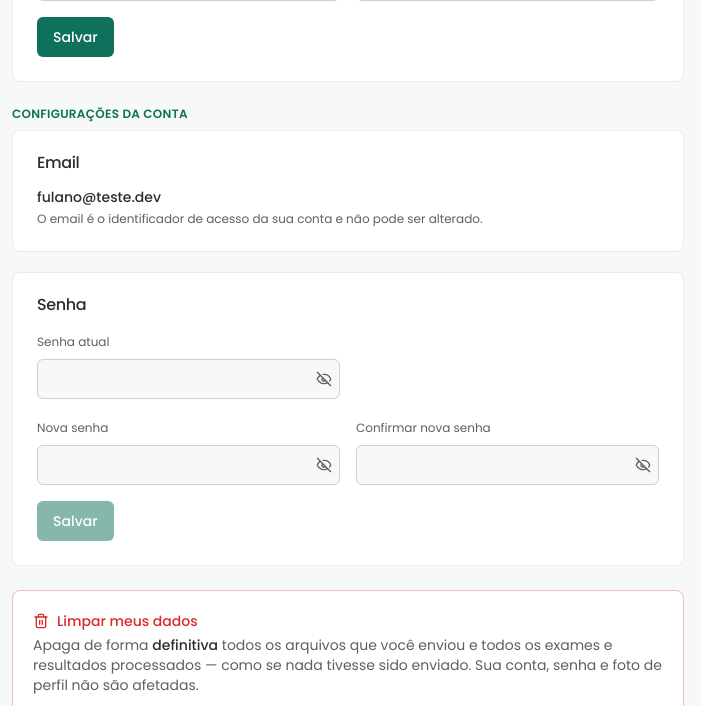
Test: ProfileSettingsForm › troca a senha com sucesso e limpa os campos
(page scrolled)
Type "senhaAtual123" into the password field labelled "Senha atual". click: (188, 379)
box: [37,359,340,399]
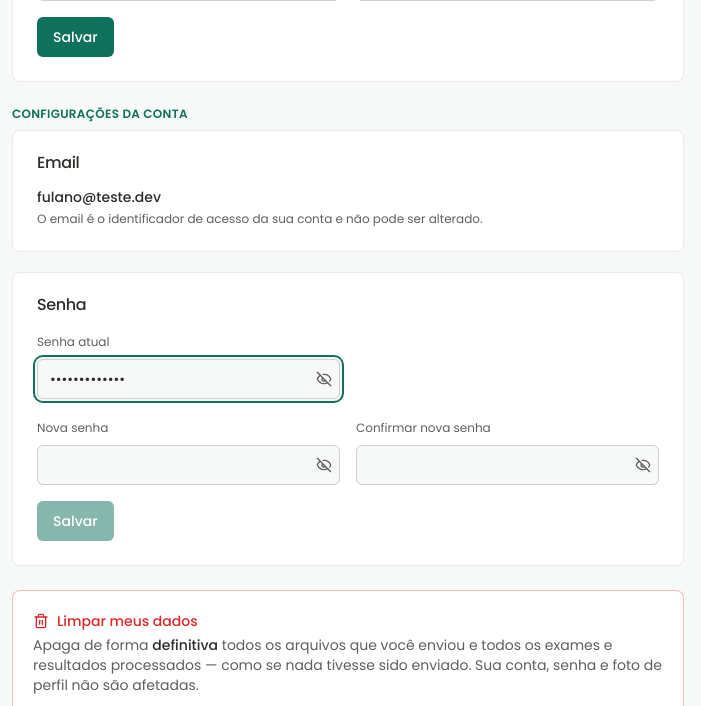
Type "senhaNova123" into the password field labelled "Nova senha". click: (188, 465)
box: [37,445,340,485]
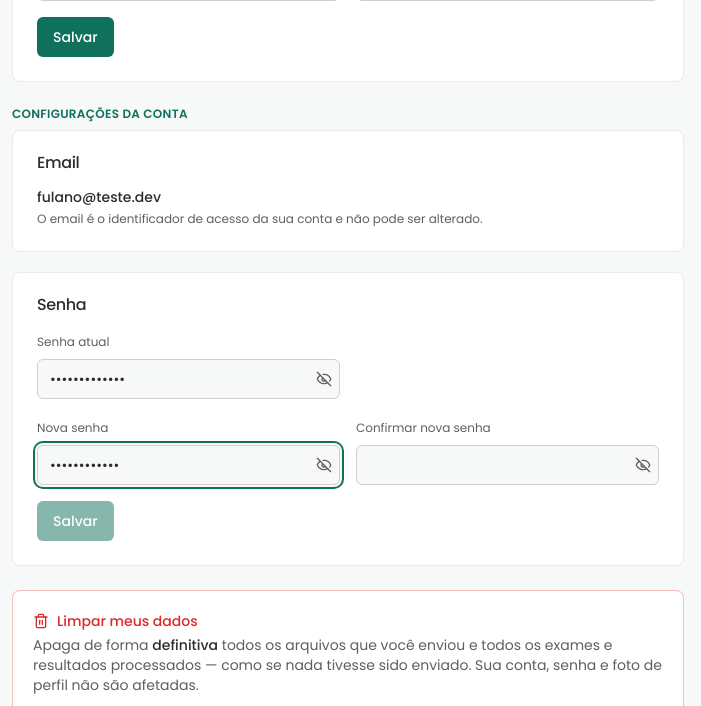
Type "senhaNova123" into the password field labelled "Confirmar nova senha". click: (508, 465)
box: [356,445,659,485]
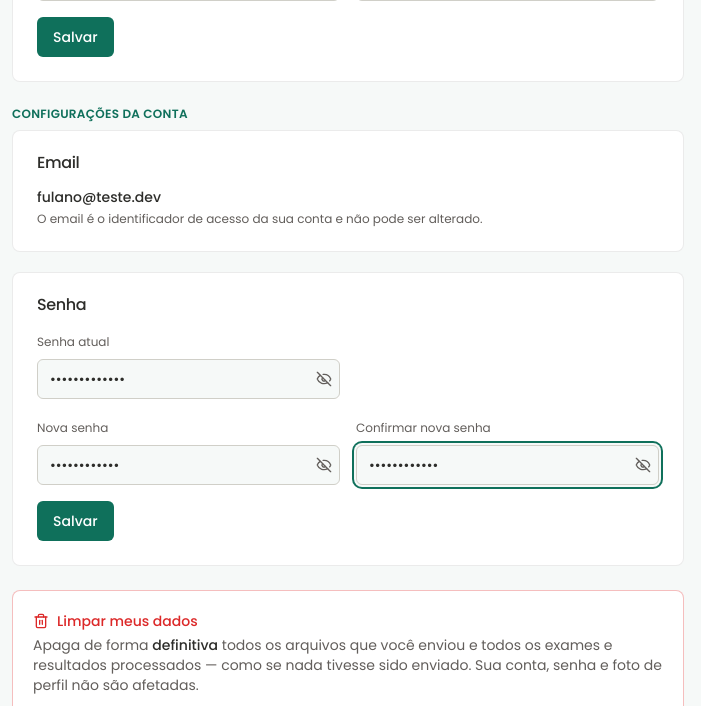
Click the button "Salvar" below "Confirmar nova senha". click: (75, 521)
box: [37,501,114,541]
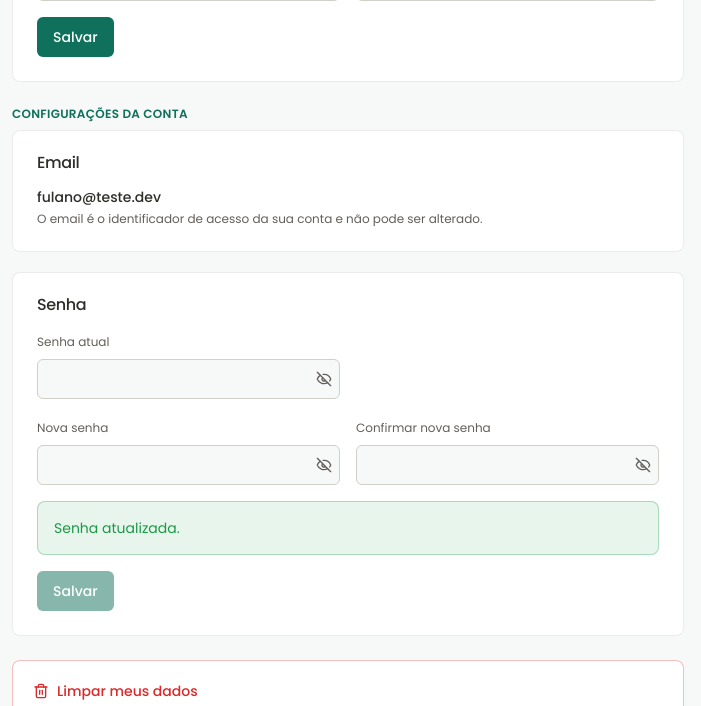
Now the text "Senha atualizada." is shown, box [54,518,180,538]
Now the password field labelled "Senha atual" is empty, box [37,359,340,399]
Now the password field labelled "Nova senha" is empty, box [37,445,340,485]
